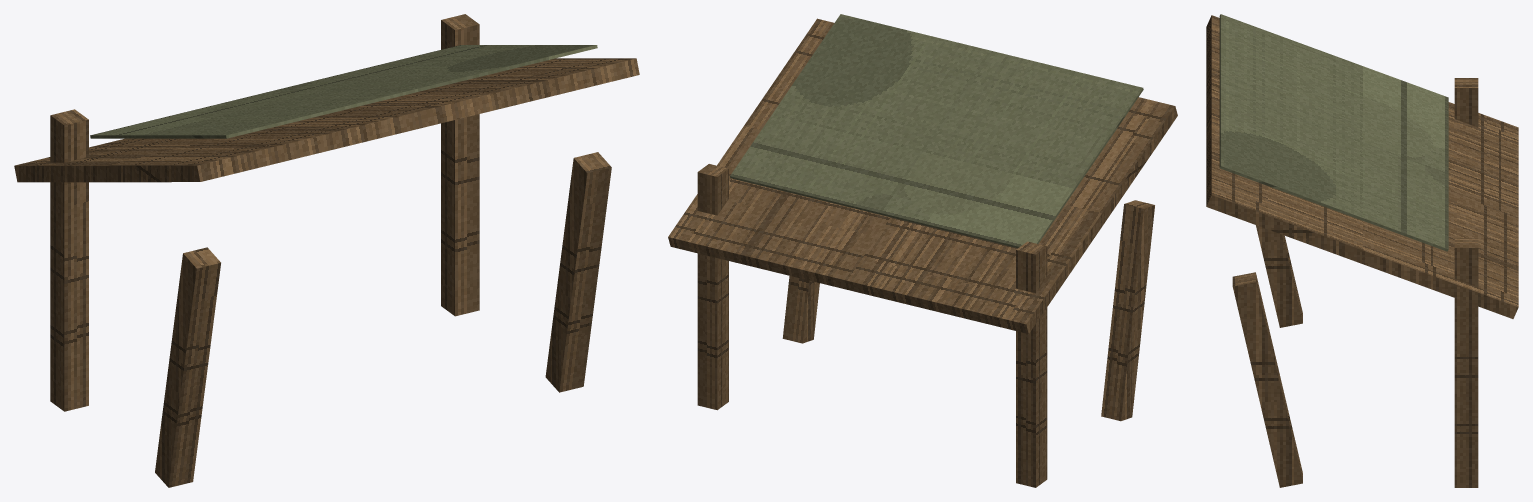
Rendered from fb_plotting_board.glb.
3 views of the same model, side by side, from view 1: azimuth 30°, elevation 25°; view 2: azimuth 150°, elevation 25°; view 3: azimuth 270°, elevation 25° (orthographic). The views are drawn at different scales.
Visible parts, largest first — view 1: fb_plotting_board; view 2: fb_plotting_board; view 3: fb_plotting_board.
Part boxes in pixels (left/top/right/bottom): fb_plotting_board: left=14, top=14, right=639, bottom=487; fb_plotting_board: left=668, top=14, right=1177, bottom=487; fb_plotting_board: left=1206, top=14, right=1518, bottom=487.
Size of what is drawn, in the model's own units: 0.9 by 0.7302 by 0.6603.
2 materials, 2 textured.
